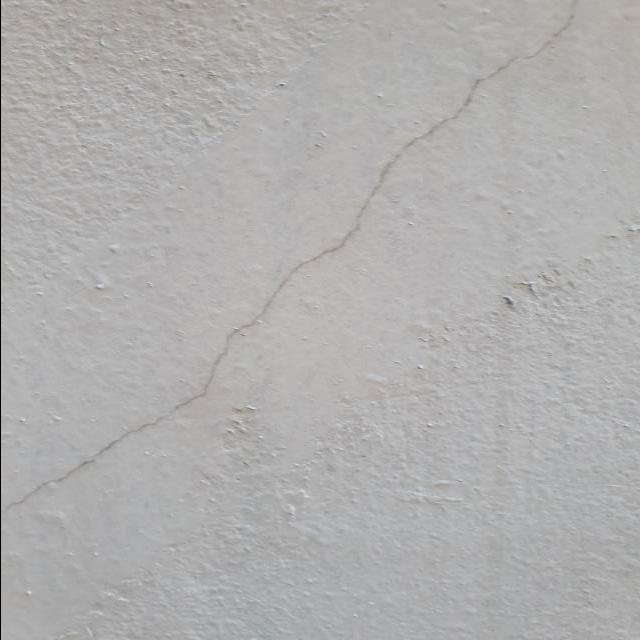SurfaceCrack: (0, 1, 637, 638)
